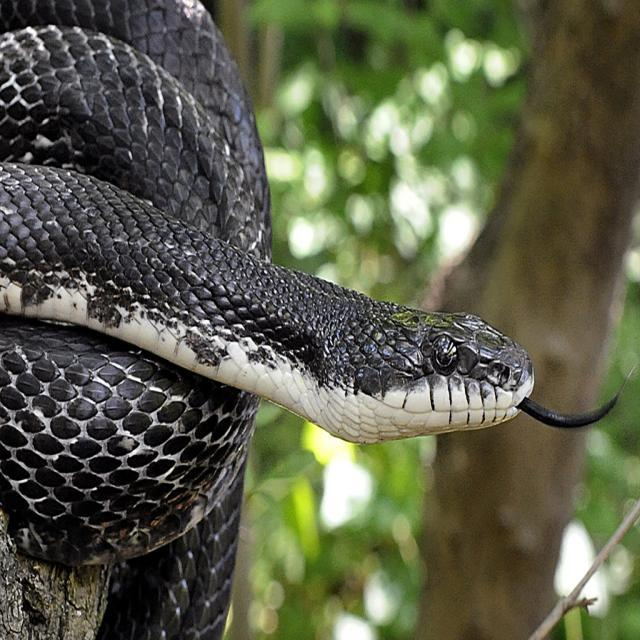Snake: (0, 0, 640, 574)
